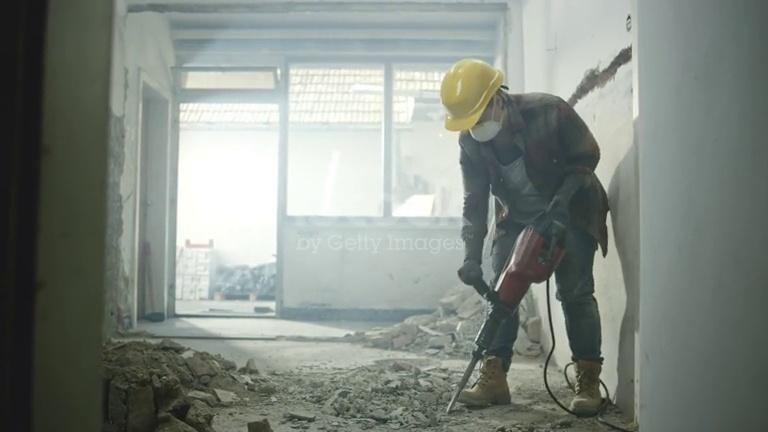helmet: (439, 57, 503, 132)
mask: (466, 115, 503, 143)
person: (438, 58, 611, 418)
